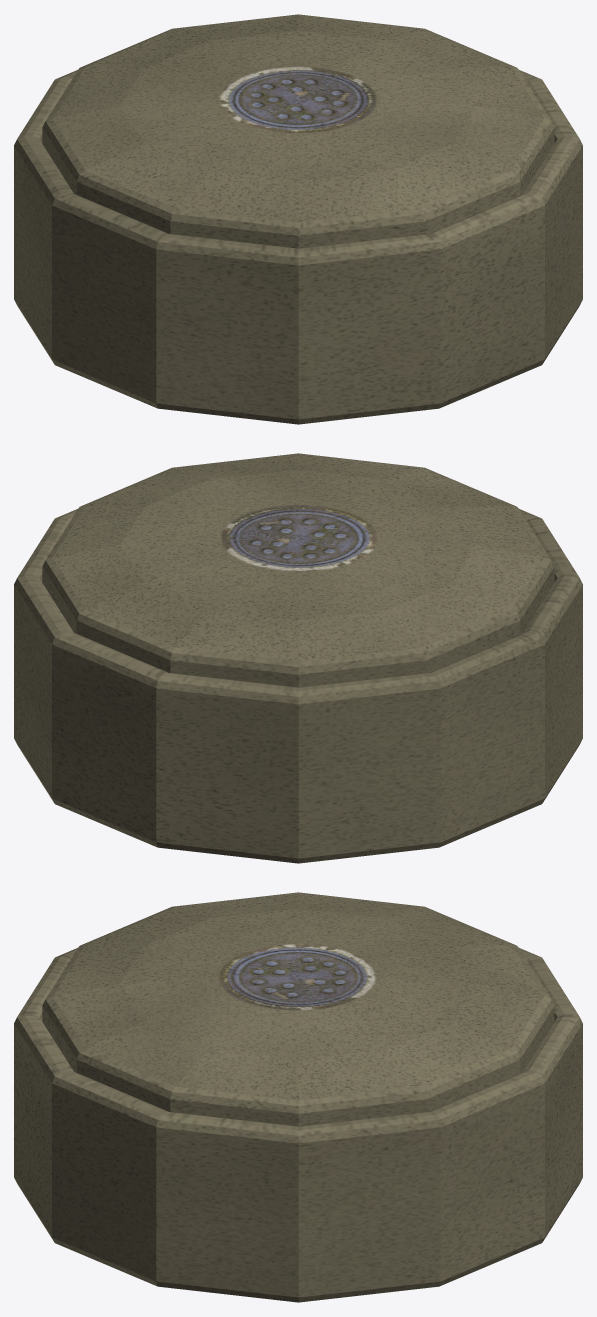
Rendered from Landmine.fbx.
3 renders of one model, top to bottom at view 1: azimuth 30°, elevation 25°; view 2: azimuth 150°, elevation 25°; view 3: azimuth 270°, elevation 25°, orthographic.
Visible parts, largest first — view 1: Cylinder; view 2: Cylinder; view 3: Cylinder.
Part boxes in pixels (x1,y1,x2,y2): Cylinder: [14, 14, 582, 424]; Cylinder: [14, 453, 582, 863]; Cylinder: [14, 892, 582, 1302].
Bounding box in the file's own units: 1.5 × 0.6071 × 1.5.
